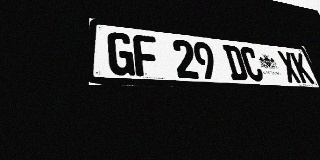2: (172, 39, 199, 79)
9: (192, 41, 219, 80)
C: (239, 46, 265, 81)
D: (222, 44, 249, 81)
F: (133, 34, 160, 77)
G: (107, 31, 135, 76)
K: (290, 52, 315, 84)
X: (276, 51, 302, 83)
